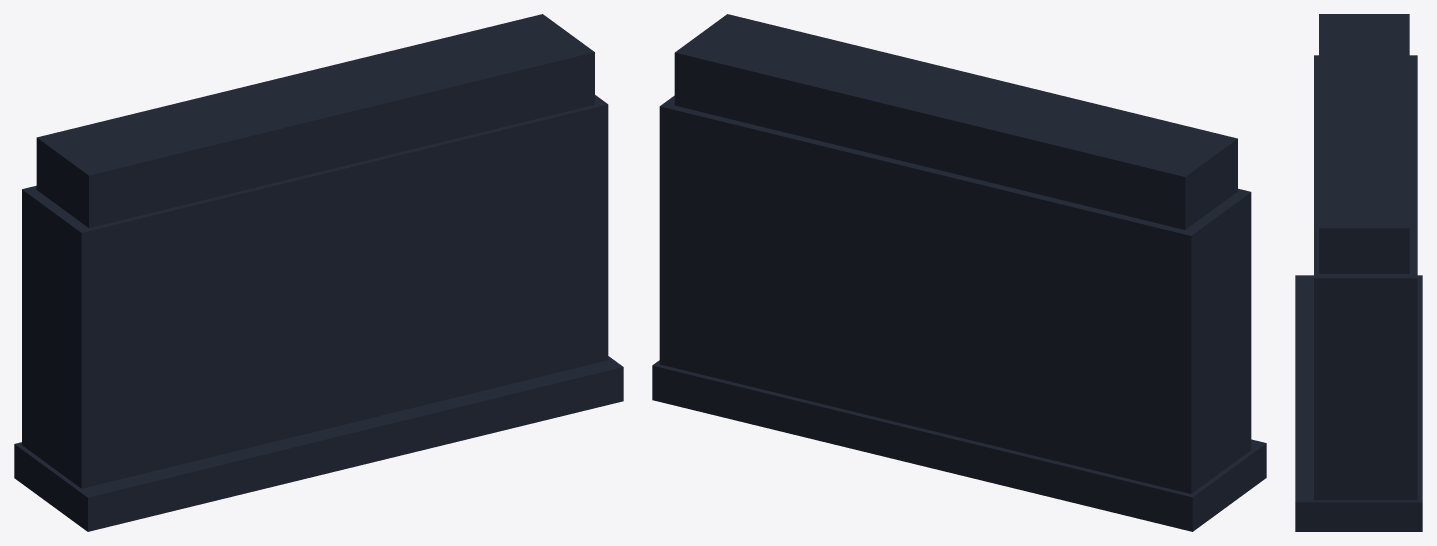
File: COL_ModeBoard_Body.obj
The picture shows the model from 3 angles, left to right: view 1: azimuth 30°, elevation 25°; view 2: azimuth 150°, elevation 25°; view 3: azimuth 270°, elevation 25°; orthographic projection. The views are drawn at different scales.
Visible parts, largest first — view 1: COL_ModeBoard_MainGantryHull, COL_ModeBoard_CanopyHull, COL_ModeBoard_BaseHull; view 2: COL_ModeBoard_MainGantryHull, COL_ModeBoard_CanopyHull, COL_ModeBoard_BaseHull; view 3: COL_ModeBoard_MainGantryHull, COL_ModeBoard_CanopyHull, COL_ModeBoard_BaseHull.
Boxes of the visible parts, x1,y1,x2,y2 form: COL_ModeBoard_MainGantryHull: [22, 95, 608, 488]; COL_ModeBoard_CanopyHull: [36, 14, 594, 227]; COL_ModeBoard_BaseHull: [14, 356, 623, 531]; COL_ModeBoard_MainGantryHull: [659, 95, 1251, 493]; COL_ModeBoard_CanopyHull: [674, 14, 1237, 229]; COL_ModeBoard_BaseHull: [652, 360, 1266, 531]; COL_ModeBoard_MainGantryHull: [1314, 55, 1417, 500]; COL_ModeBoard_CanopyHull: [1319, 14, 1409, 273]; COL_ModeBoard_BaseHull: [1295, 275, 1422, 531].
Size of the model in its own units: 14.4 by 8.8 by 3.42.
Materials: 1 (1 with a texture image).
